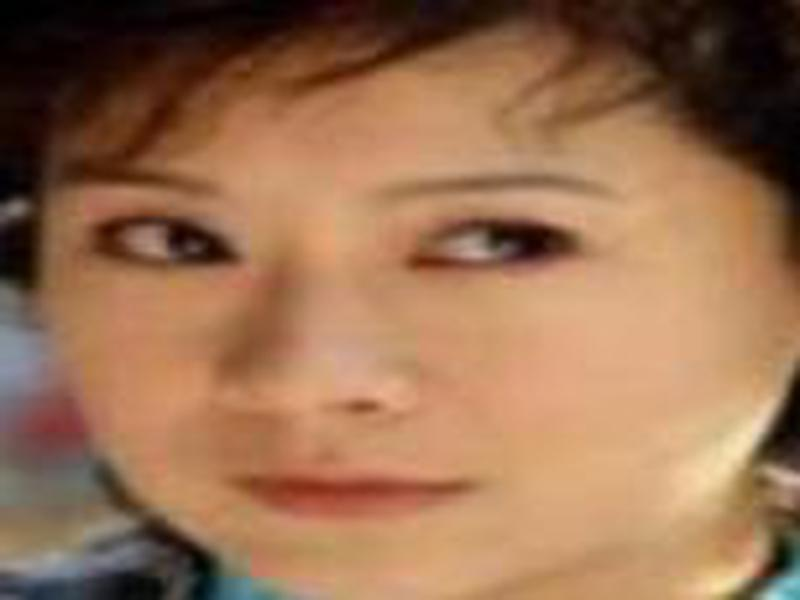without_mask: (51, 85, 700, 589)
